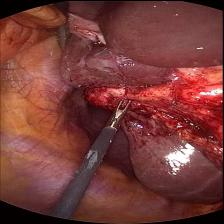Grasper: (107, 96, 139, 131)
